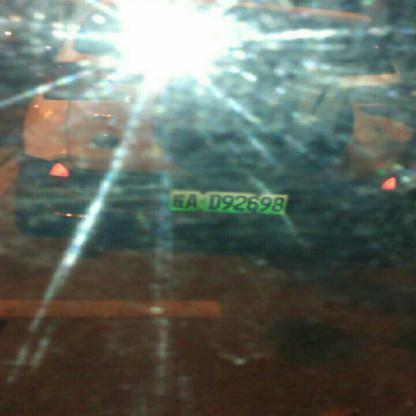lp: (170, 188, 287, 214)
